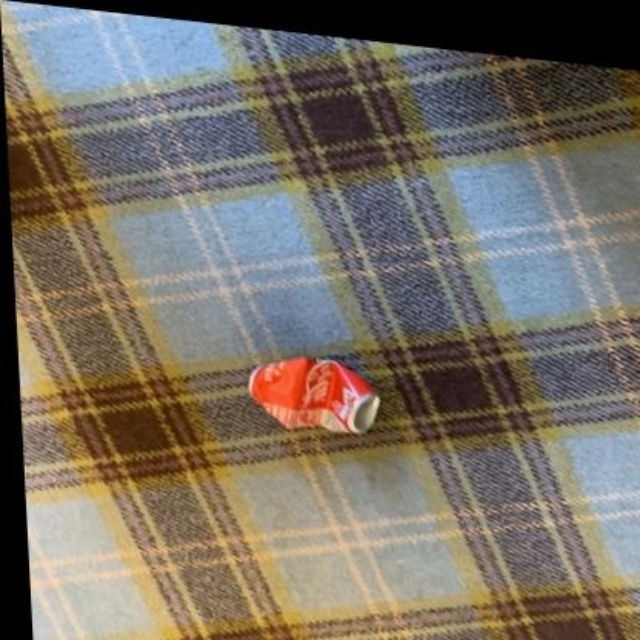trash: (249, 357, 378, 432)
